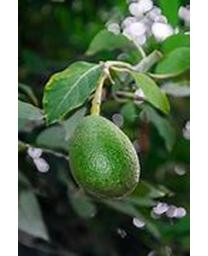avocado: (68, 114, 141, 203)
